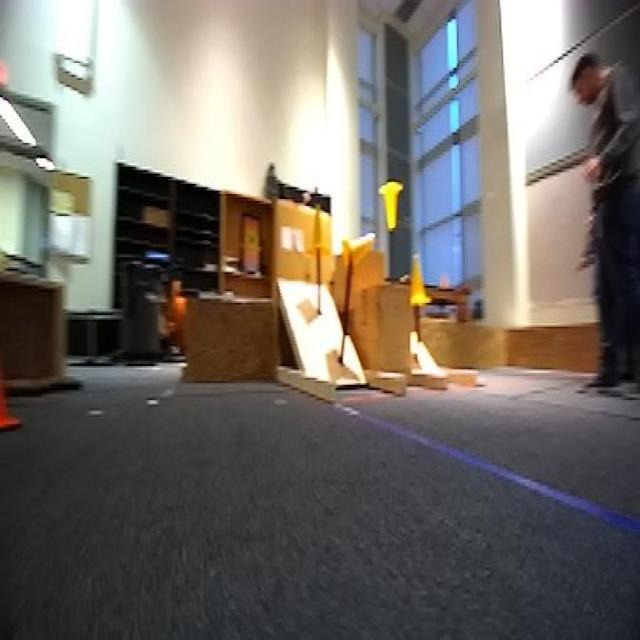frc_cone: (340, 226, 376, 268), (379, 182, 404, 230), (408, 250, 428, 303), (310, 209, 328, 259)
